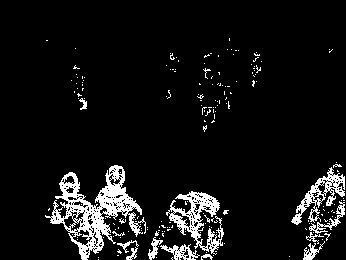person: (47, 172, 109, 260), (93, 163, 149, 260), (195, 66, 222, 135)
